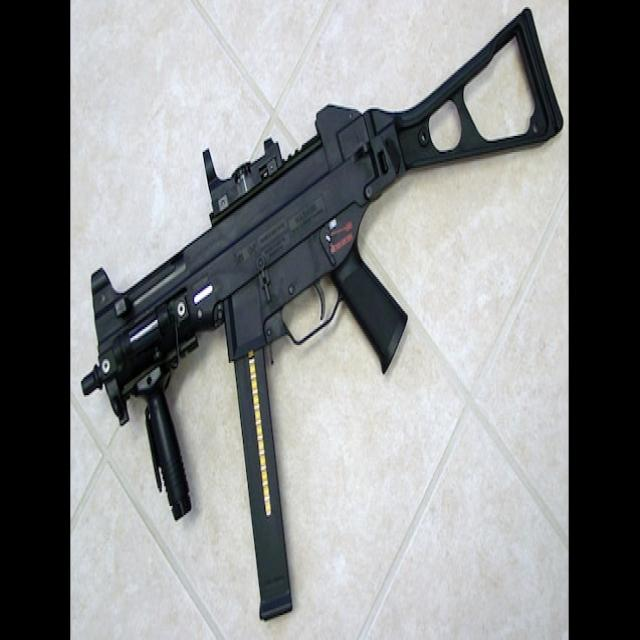SMG: (82, 9, 565, 622)
